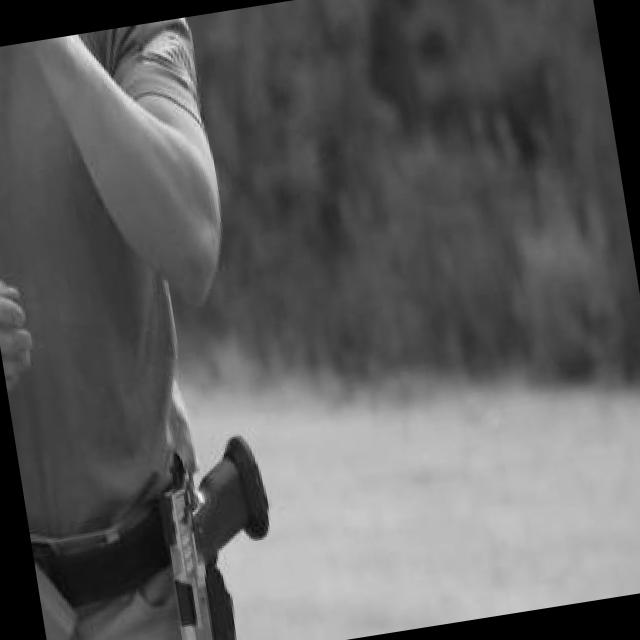Guns: (130, 405, 295, 640)
